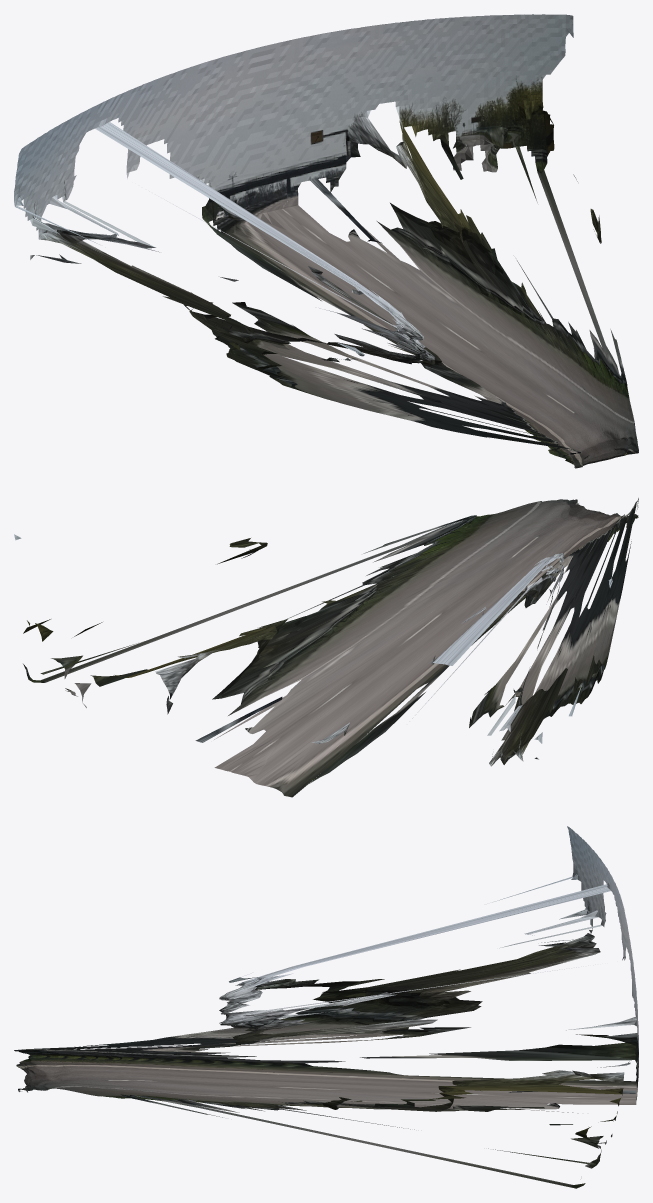
3 renders of one model, top to bottom at view 1: azimuth 30°, elevation 25°; view 2: azimuth 150°, elevation 25°; view 3: azimuth 270°, elevation 25°, orthographic. The views are drawn at different scales.
Parts seen in each view (by area): view 1: defaultobject; view 2: defaultobject; view 3: defaultobject.
Part boxes in pixels (x1,y1,x2,y2): defaultobject: (14, 14, 638, 468); defaultobject: (14, 498, 638, 797); defaultobject: (14, 826, 638, 1188).
Bounding box in the file's own units: 40.81 × 12.85 × 44.92.
Materials: 1 (1 with a texture image).
